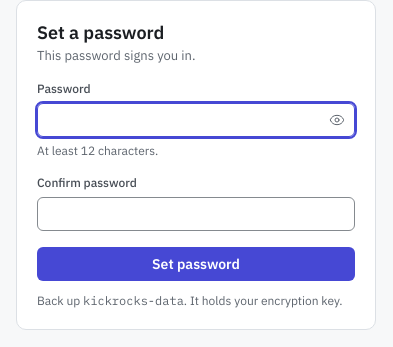
Scenario: the setup page › rejects a short password and says how long it must be
In the password field labelled "Password": (196, 120) [37, 103, 355, 137], type "too short"
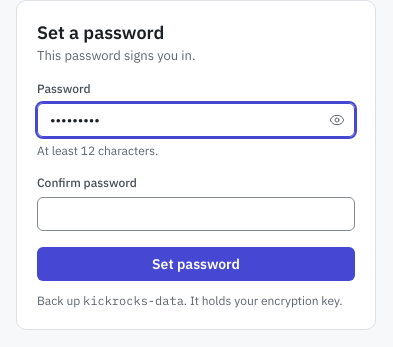
In the password field labelled "Confirm password": (196, 214) [37, 197, 355, 231], type "too short"
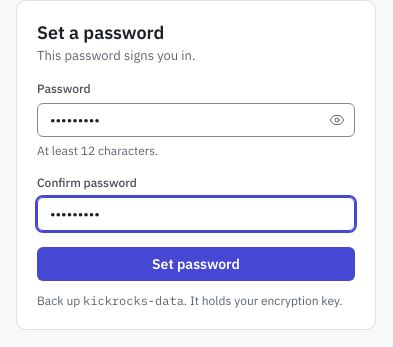
Click the button "Set password": (196, 264) [37, 247, 355, 281]
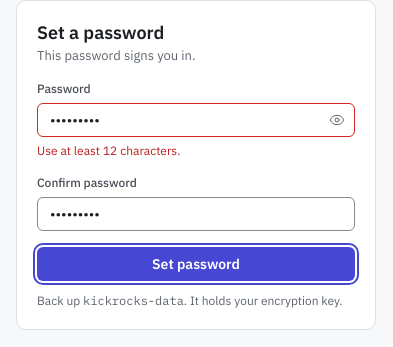
Check: the text "Use at least 12 characters." is shown, box [37, 143, 180, 158]
